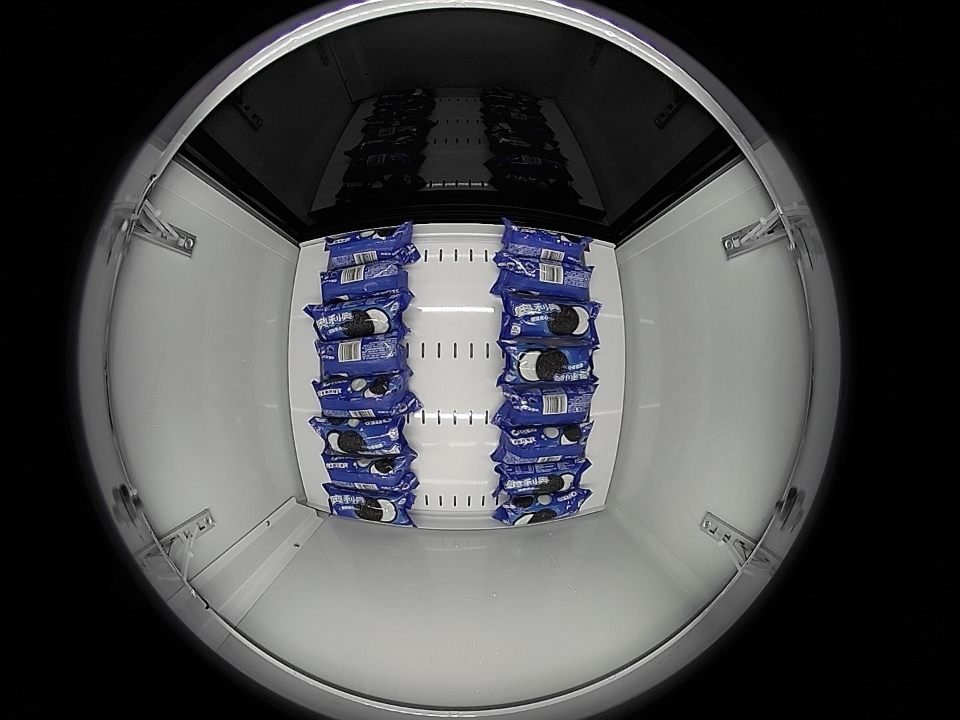aoliao: (498, 295, 603, 343), (498, 223, 595, 265), (501, 343, 600, 384), (497, 263, 593, 304), (501, 384, 598, 424), (309, 375, 401, 416), (312, 332, 401, 374), (308, 418, 403, 457), (501, 423, 592, 461), (324, 225, 409, 265), (318, 262, 403, 301), (311, 302, 400, 338), (319, 454, 408, 490), (330, 488, 413, 526), (502, 489, 585, 525), (500, 461, 589, 490)
